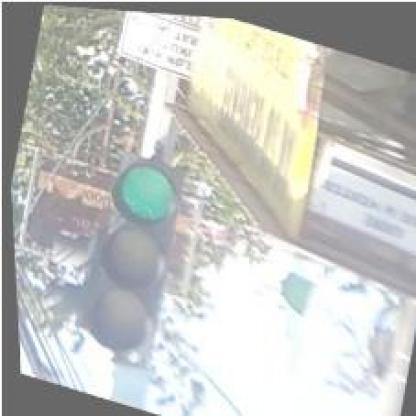green: (71, 147, 192, 362)
